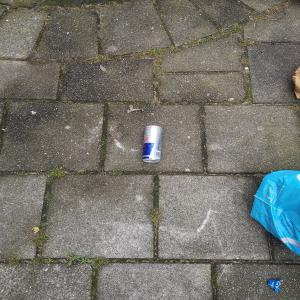Can: (140, 125, 167, 167)
Trash: (247, 169, 300, 260), (266, 276, 291, 295)
